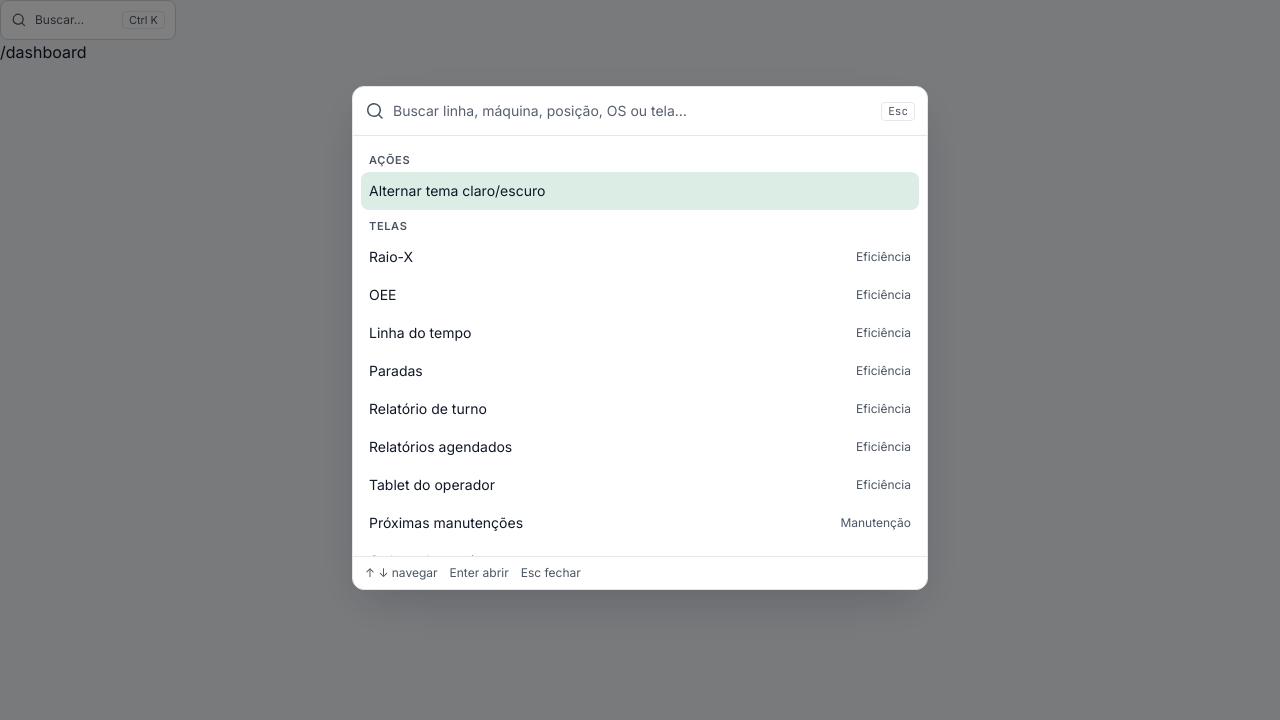
Test: command palette (Ctrl+K) › finds positions and work orders; arrows move the active option
Type "rolamento" into the dropdown at (633, 111), box [393,87,873,135]
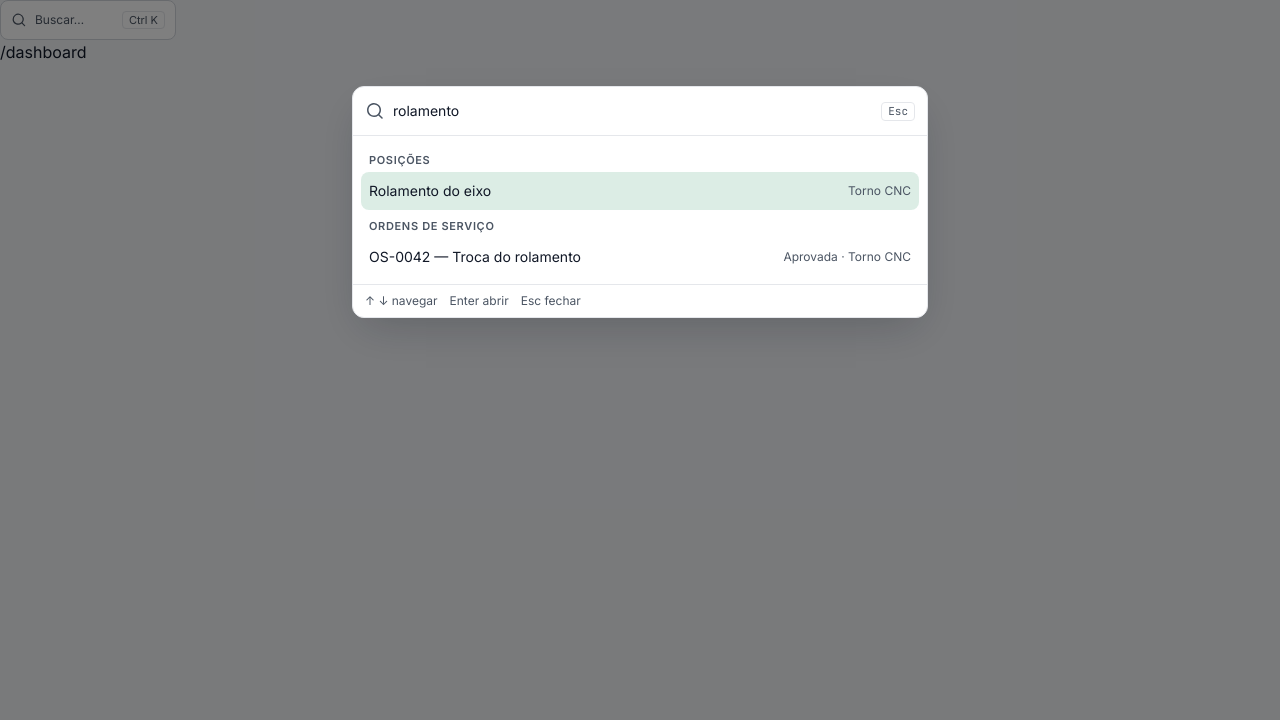
Expected: the option "OS-0042 — Troca do rolamento Aprovada · Torno CNC" is shown, [369,248,911,265]
Press Arrowdown
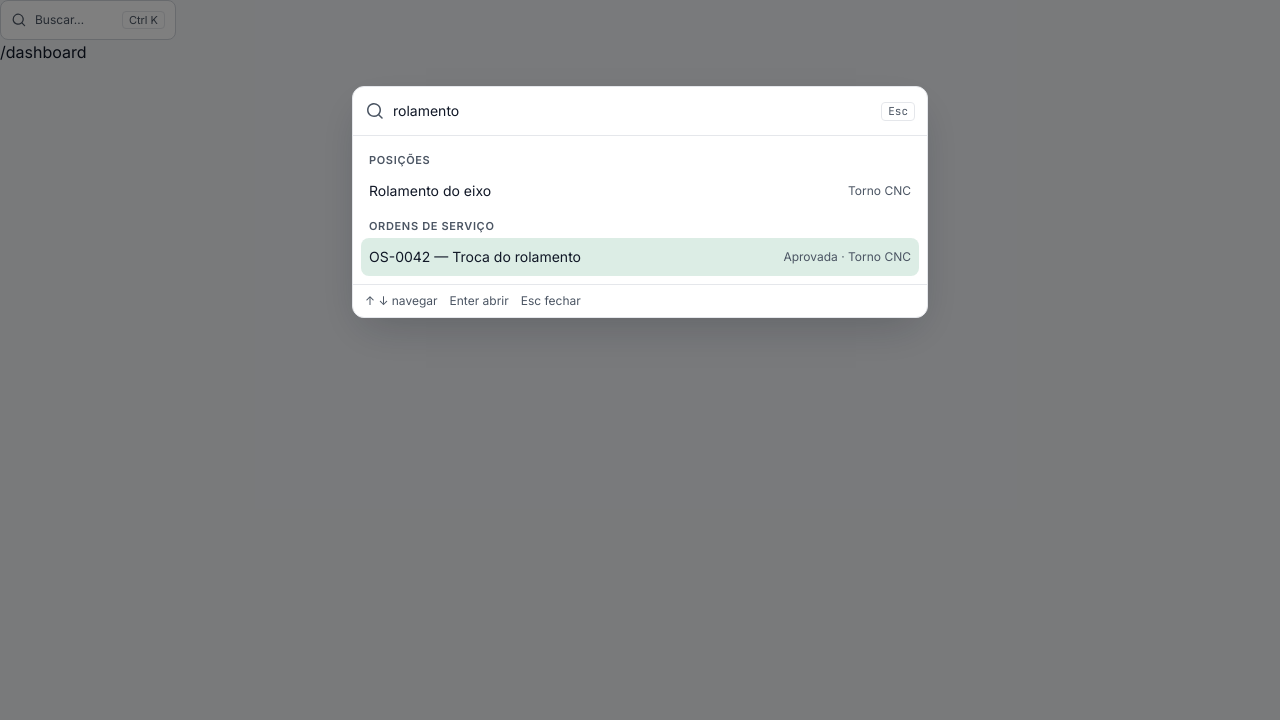
Expected: the option "OS-0042 — Troca do rolamento Aprovada · Torno CNC" is selected, [361,238,919,276]
Press Enter
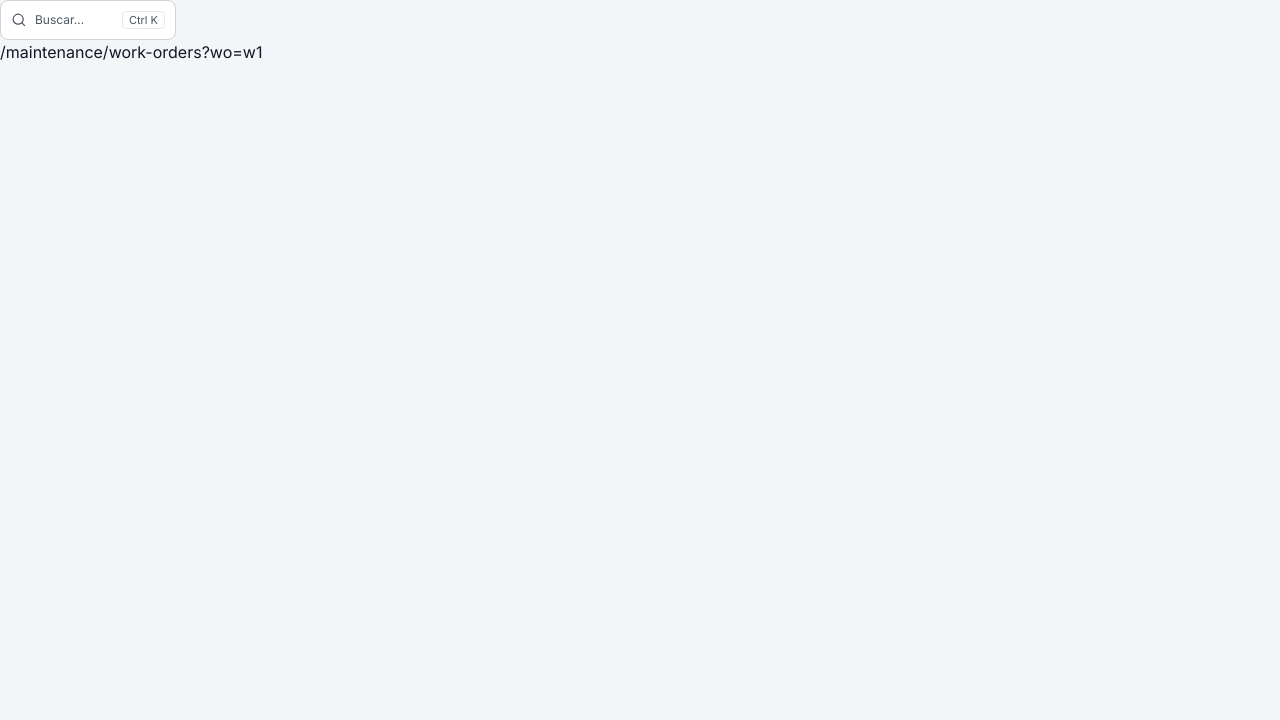
Expected: the text with test id "where" reads "/maintenance/work-orders?wo=w1", [0,42,262,62]
